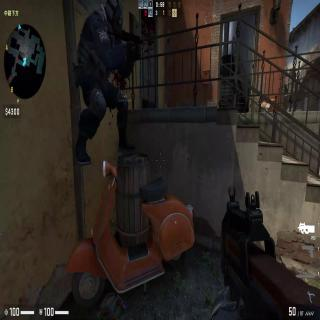CT-Body: (75, 1, 139, 158)
CT-Head: (104, 1, 125, 34)
